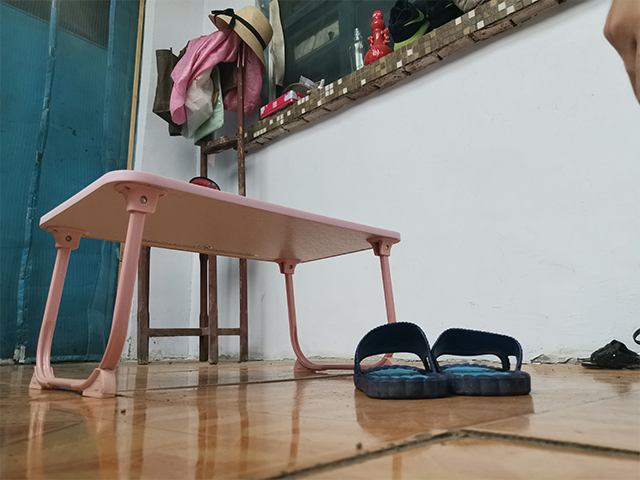slippers: (351, 319, 445, 402), (429, 325, 532, 393)
stool: (26, 168, 406, 401)
